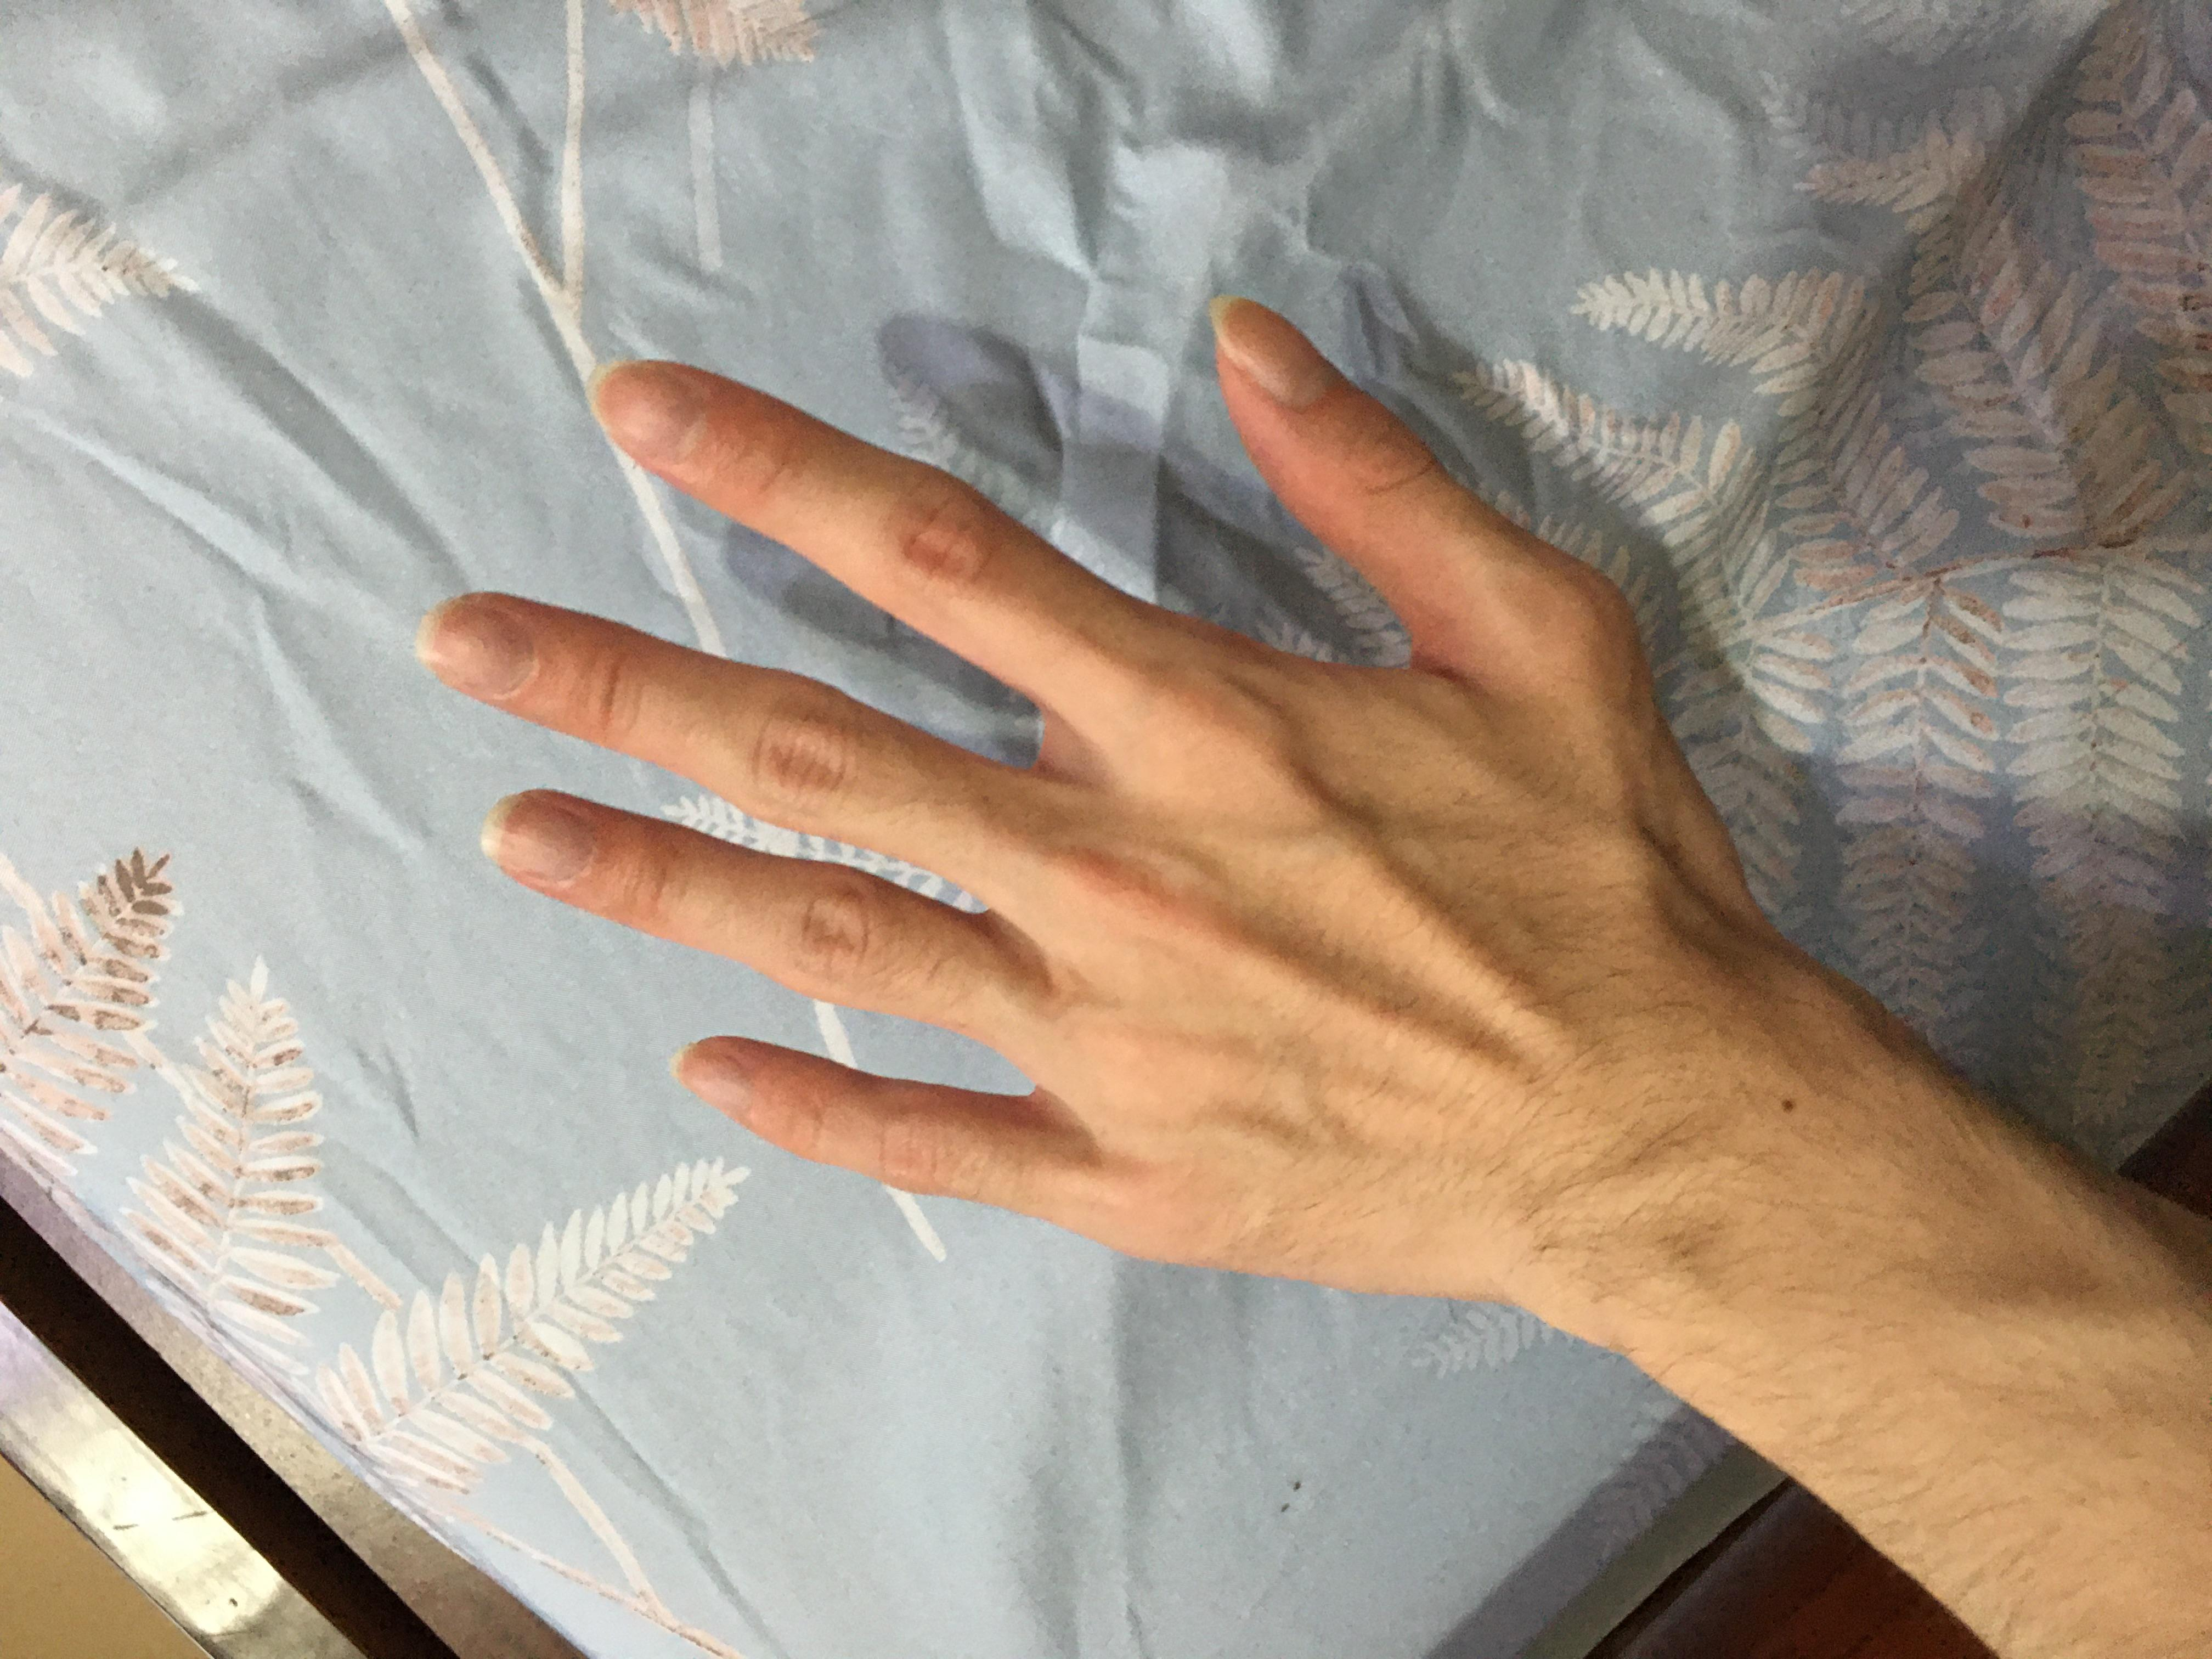hand: (477, 309, 1829, 1260)
